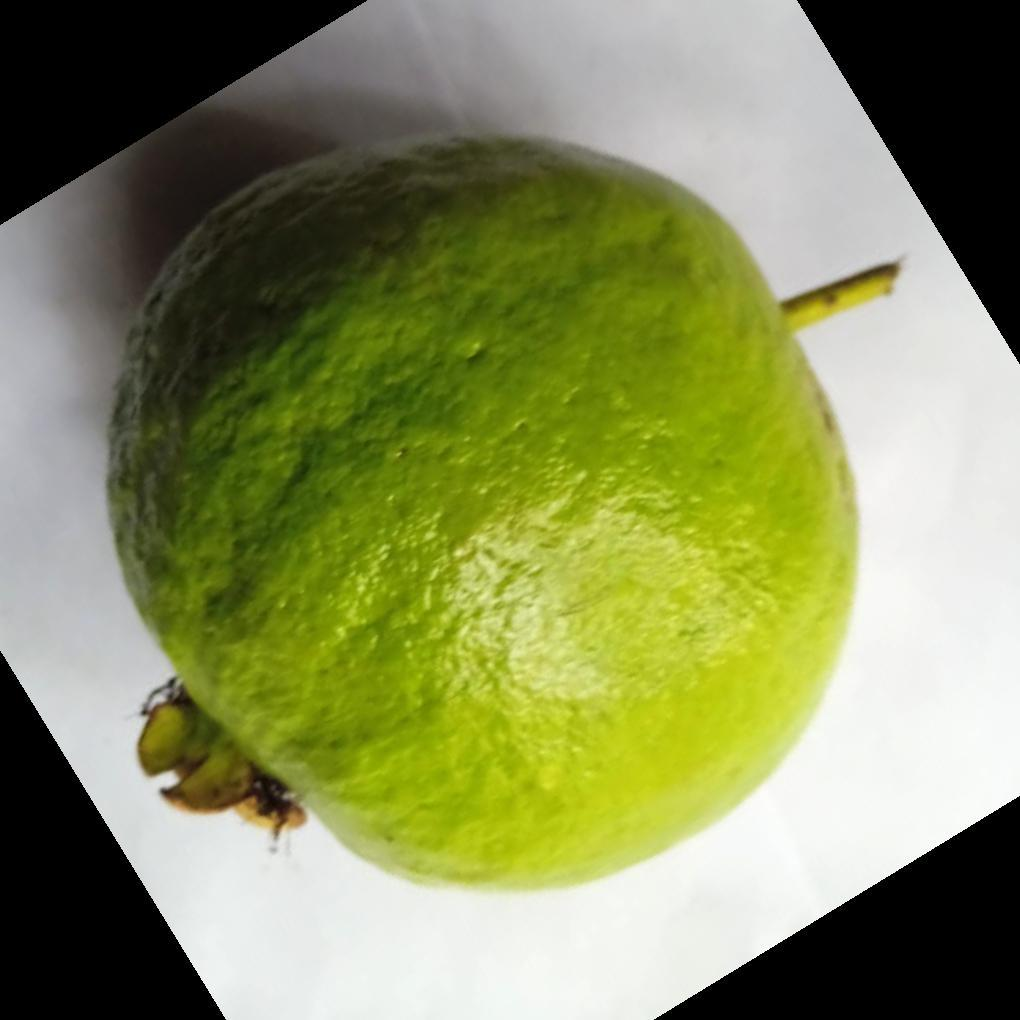FreshGuava: (104, 133, 862, 895)
